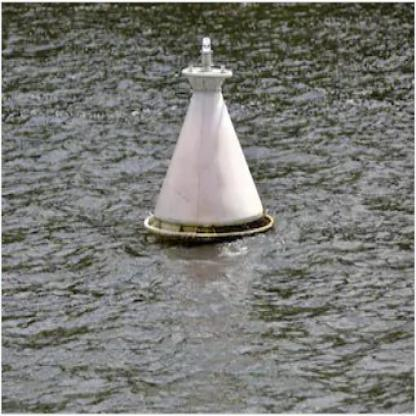Buoy: (142, 54, 277, 250)
